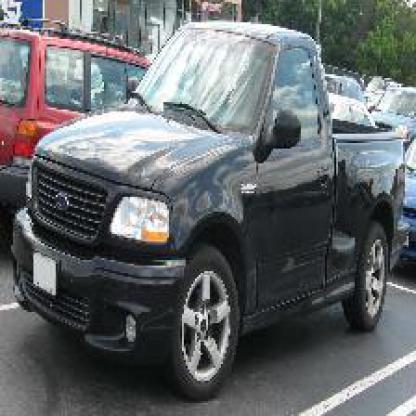not_emergency: (22, 9, 383, 390)
